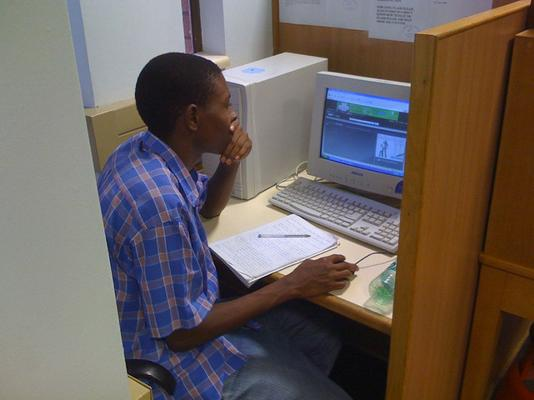person: (97, 53, 368, 400)
